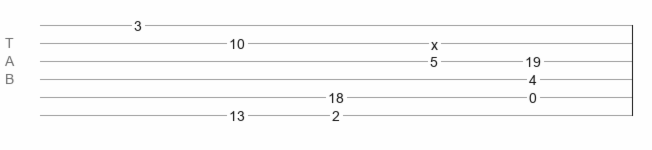0: (529, 90, 537, 100)
10: (229, 36, 245, 46)
13: (229, 108, 245, 118)
18: (328, 90, 344, 100)
19: (525, 54, 541, 64)
2: (332, 108, 340, 118)
3: (134, 18, 142, 28)
4: (529, 72, 537, 82)
5: (430, 54, 438, 64)
x: (431, 37, 438, 45)
